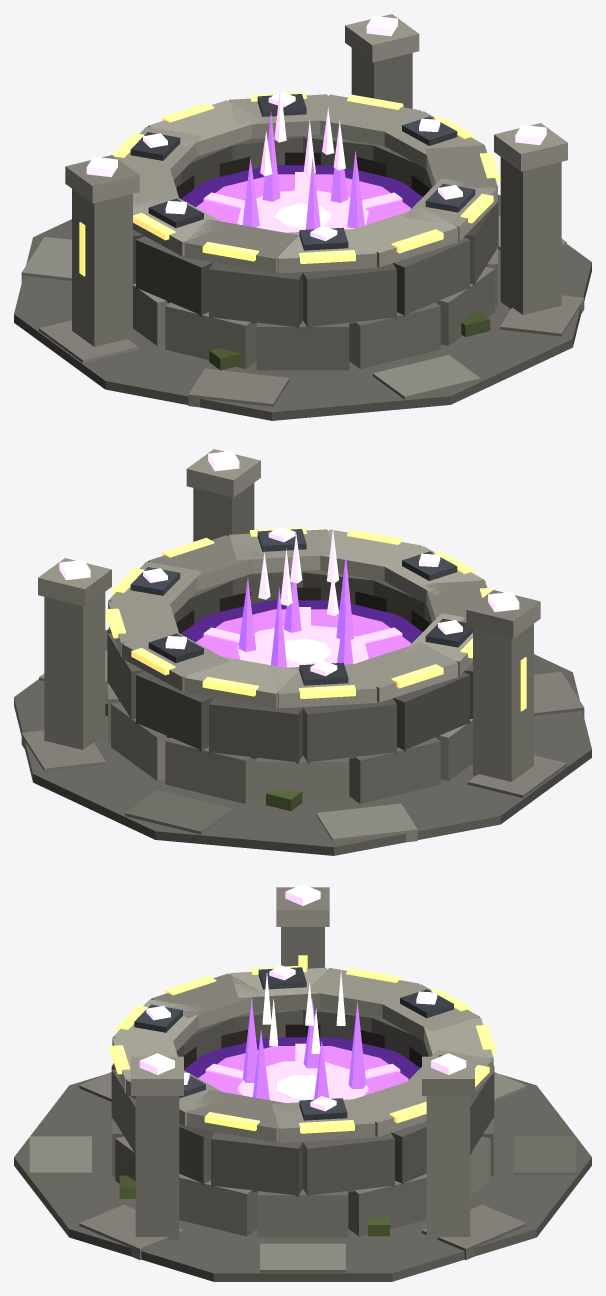
Rendered from castle_realm_portal.glb.
3 renders of one model, top to bottom at view 1: azimuth 30°, elevation 25°; view 2: azimuth 150°, elevation 25°; view 3: azimuth 270°, elevation 25°, orthographic. The views are drawn at different scales.
Parts seen in each view (by area): view 1: castle_realm_portal; view 2: castle_realm_portal; view 3: castle_realm_portal.
Boxes of the visible parts, bbox=[...] form: castle_realm_portal: bbox=[14, 14, 591, 420]; castle_realm_portal: bbox=[14, 449, 591, 855]; castle_realm_portal: bbox=[14, 884, 591, 1281].
Bounding box in the file's own units: 3.52 × 1.38 × 3.7.
